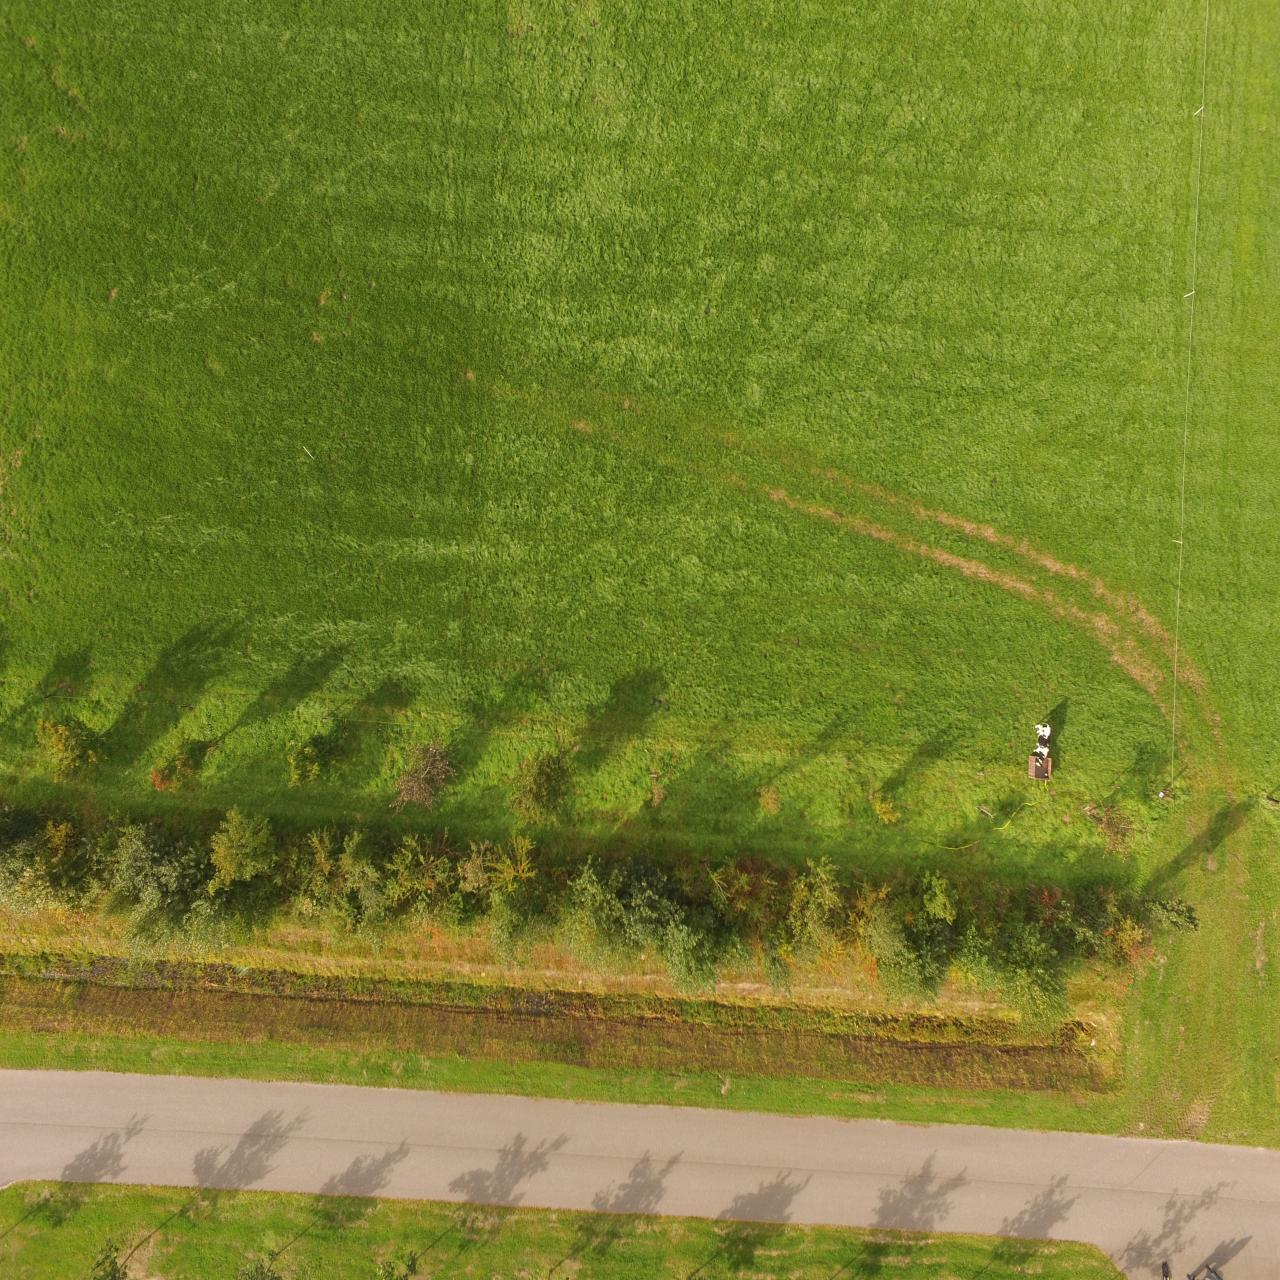cow: (1032, 720, 1051, 768)
